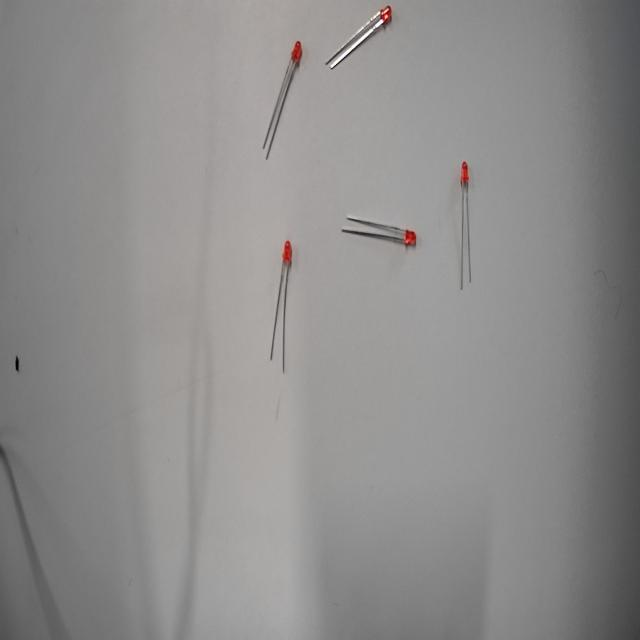LED_red: (394, 208, 428, 268), (448, 144, 482, 201), (271, 229, 305, 284), (279, 28, 313, 82), (372, 0, 402, 47)
